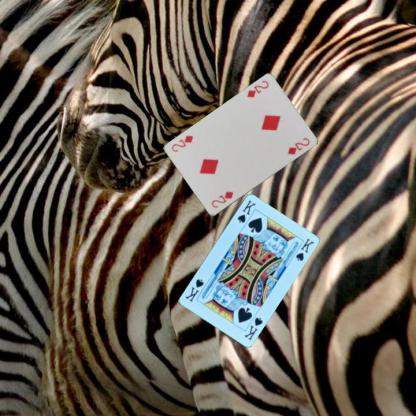2d: (244, 78, 270, 99), (209, 189, 235, 209)
Ks: (235, 197, 257, 224), (242, 314, 264, 341)
